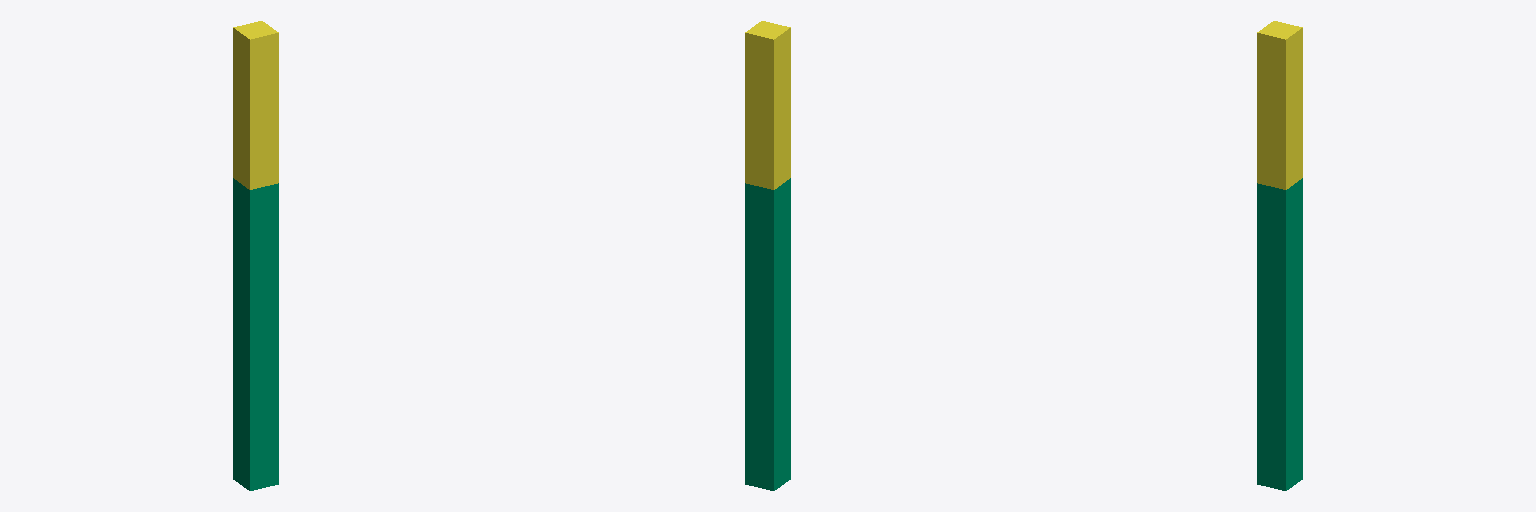
URDF robot description (2dof):
<?xml version="1.0" ?>
<robot name="2dof" >

<link name="tool0"/>

<link name="base_link" />

<link name="link_1">
  <visual>
    <origin xyz="0 0 0.5" rpy="0 0 0"/>
    <geometry>
      <box size="0.1 0.1 1"/>
    </geometry>
  </visual>
</link>

<link name="link_2">
  <visual>
    <origin xyz="0 0 0.25" rpy="0 0 0"/>
    <geometry>
      <box size="0.1 0.1 0.5"/>
    </geometry>
  </visual>
</link>

<joint name="joint_1" type="revolute">
  <parent link="base_link" />
  <child link="link_1" />
  <limit effort="30" velocity="1.0" lower="-1.570795" upper="1.570795" />
  <origin xyz="0 0 0" rpy="0 0 0" />
  <axis xyz="1 0 0" />
</joint>

<joint name="joint_2" type="revolute">
  <parent link="link_1" />
  <child link="link_2" />
  <limit effort="30" velocity="1.0" lower="-1.570795" upper="1.570795" />
  <origin xyz="0 0 1" rpy="0 0 0" />
  <axis xyz="1 0 0" />
</joint>

<joint name="joint_3" type="revolute">
 <parent link="link_2" />
 <child link="tool0" />
 <origin xyz="0 0 0.5" rpy="0 0 0" />
 <limit effort="30" velocity="1.0" lower="-0.1" upper="0.1" />
 <axis xyz="1 0 0" />
</joint>

</robot>

--- What the picture shows (computed from the rendered views, not written in the file) ---
Views: 3 orthographic renders of the robot side by side, from view 1: azimuth 30°, elevation 25°; view 2: azimuth 150°, elevation 25°; view 3: azimuth 330°, elevation 25°.
Robot: 2dof — 4 links, 3 joints (3 revolute); root link base_link; default pose: all joints at 0.
Links seen in each view (by area): view 1: link_1, link_2; view 2: link_1, link_2; view 3: link_1, link_2.
Boxes of the visible links, box(x1,y1,x2,y2) form: link_1: box(233, 178, 278, 490); link_2: box(233, 21, 278, 189); link_1: box(745, 178, 790, 490); link_2: box(745, 21, 790, 189); link_1: box(1257, 178, 1302, 490); link_2: box(1257, 21, 1302, 189).
Size in the robot's own frame: 0.1 by 0.1 by 1.5 metres.
Geometry: primitives only (box / cylinder / sphere), no mesh files.